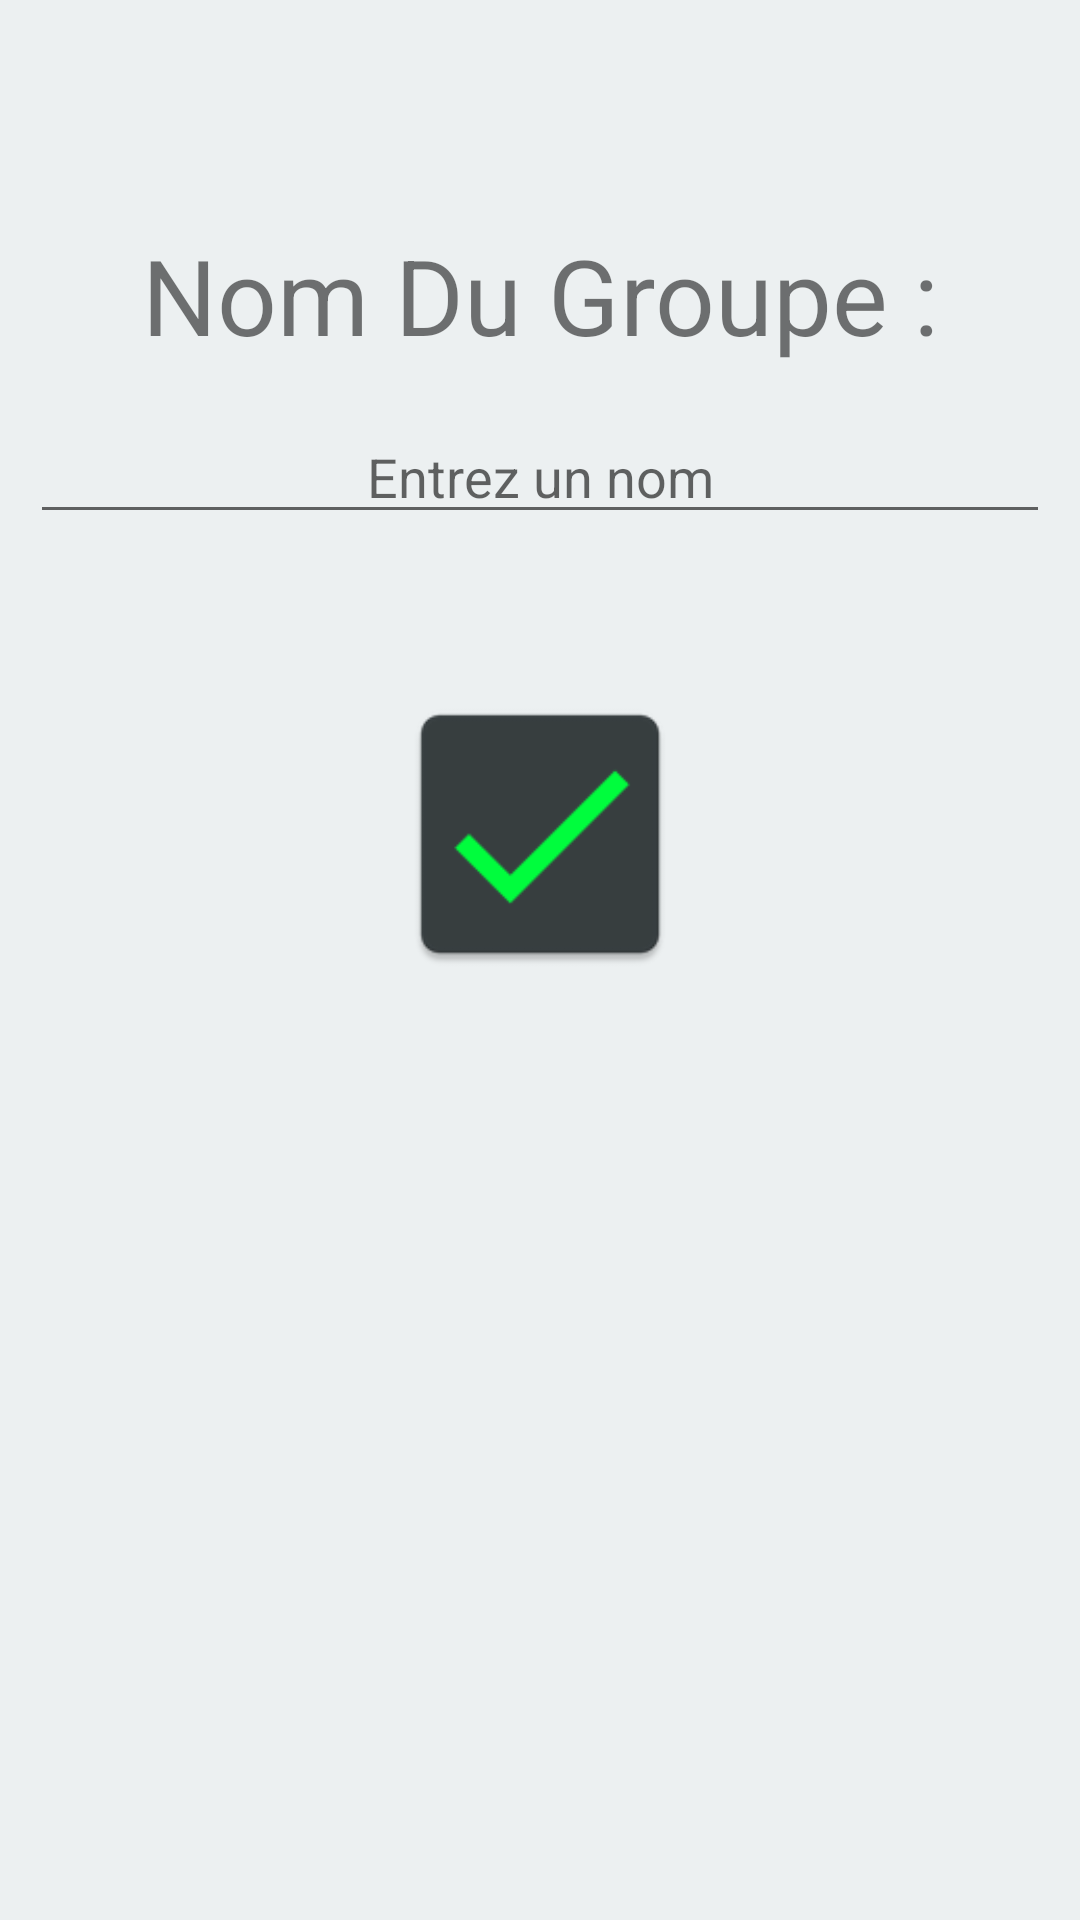

Icons on this 1080 x 1920 Android screen, each with the point to tap as (x,y):
validation: (540,837)
